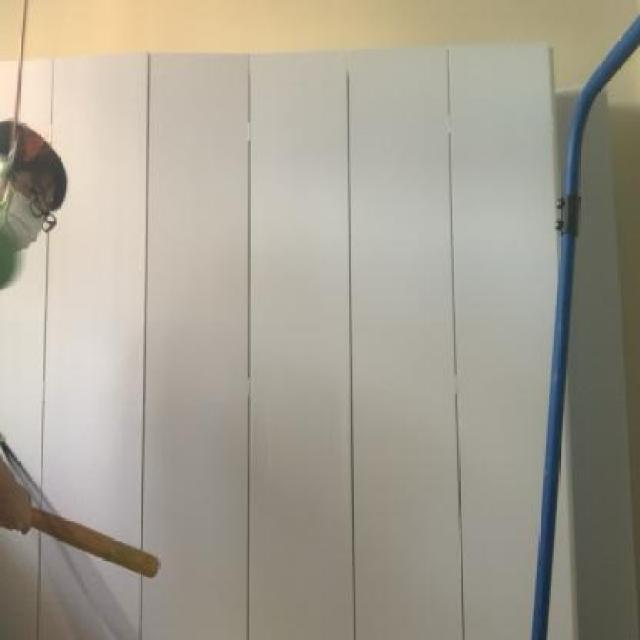baseball: (1, 219, 33, 299)
